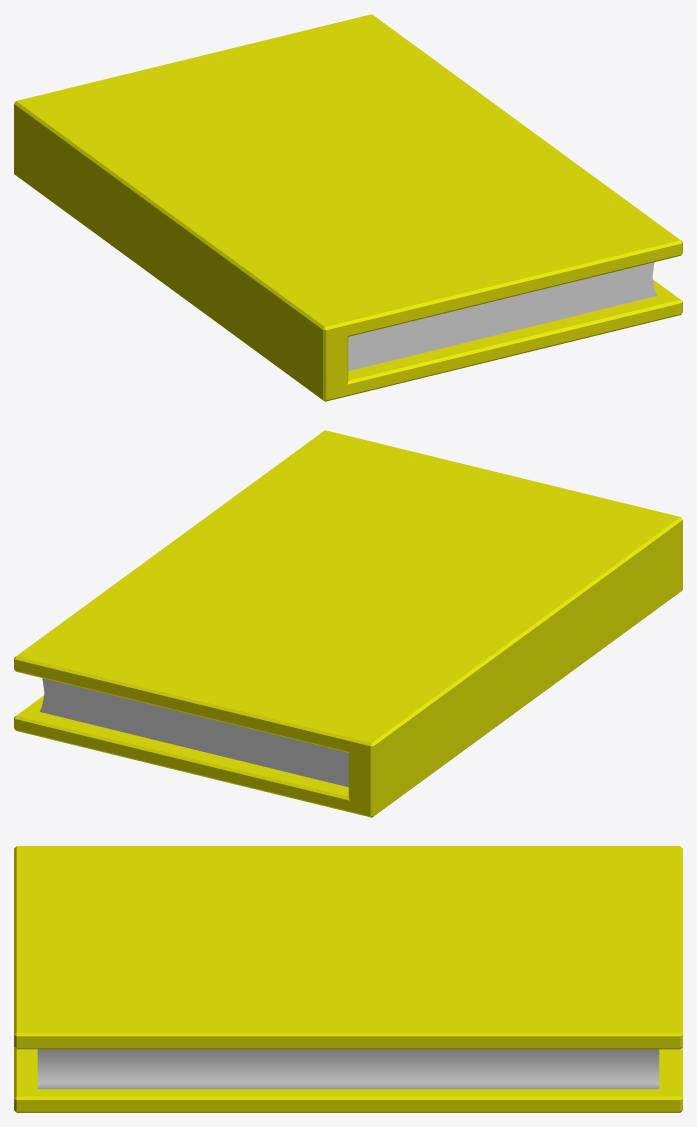
The model's file is Book_4.fbx.
3 renders of one model, top to bottom at view 1: azimuth 30°, elevation 25°; view 2: azimuth 150°, elevation 25°; view 3: azimuth 270°, elevation 25°, orthographic. The views are drawn at different scales.
Visible parts, largest first — view 1: pCube1; view 2: pCube1; view 3: pCube1.
Boxes of the visible parts, bbox=[...] form: pCube1: bbox=[14, 14, 682, 401]; pCube1: bbox=[14, 430, 682, 817]; pCube1: bbox=[14, 846, 682, 1112].
Bounding box in the file's own units: 3.76 × 0.7452 × 5.63.
